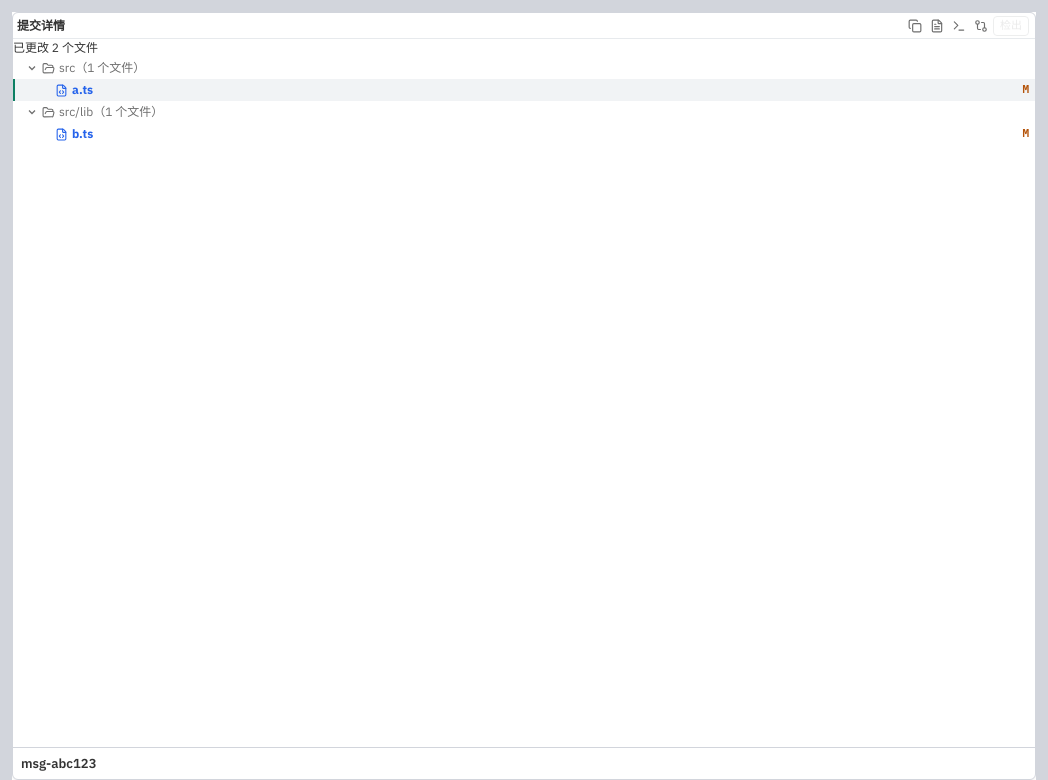
Test: GitCommitDetail › 目录行可折叠：点击后文件行隐藏，再点展开
The image size is (1048, 780).
Expected: the text "a.ts" is shown, [72,82,93,97]
Expected: the text "b.ts" is shown, [72,126,93,141]
Note: 点击目录行折叠：src 目录下的 a.ts 消失，src/lib 目录下的 b.ts 仍在
Click the list item "src（1 个文件）" at (102, 68), box [13,57,1035,79]
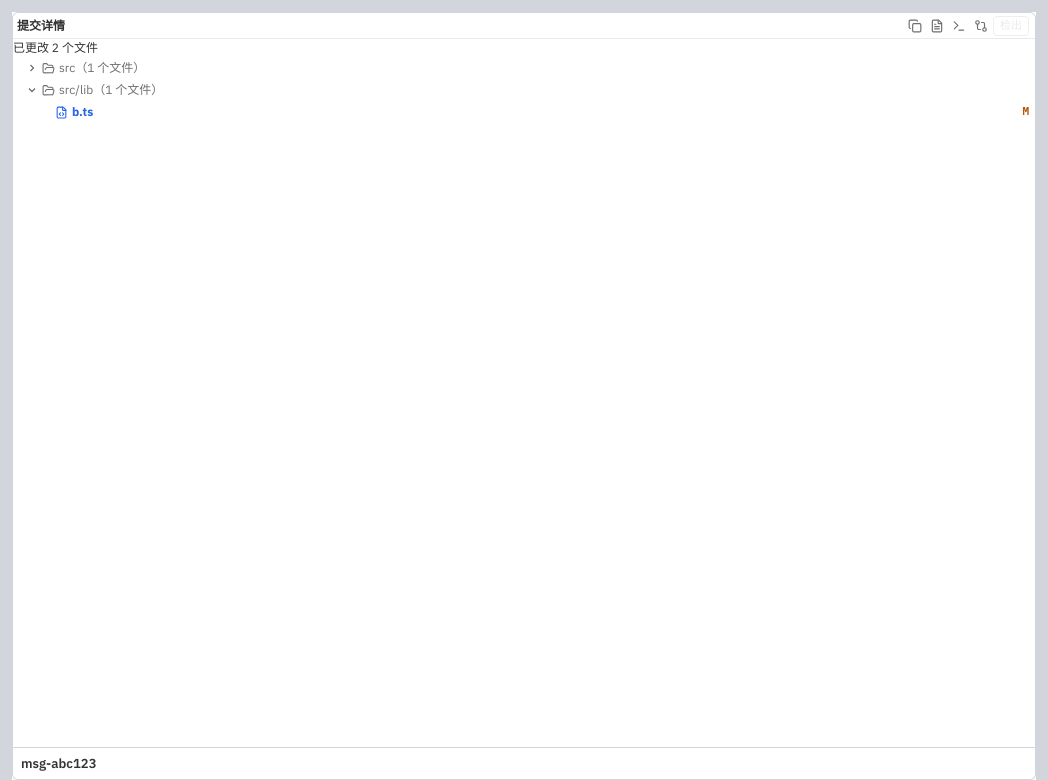
Expected: the text "b.ts" is shown, [72,104,93,119]
Expected: the list item "a.ts" is gone
Click the list item "src（1 个文件）" at (102, 68), box [13,57,1035,79]
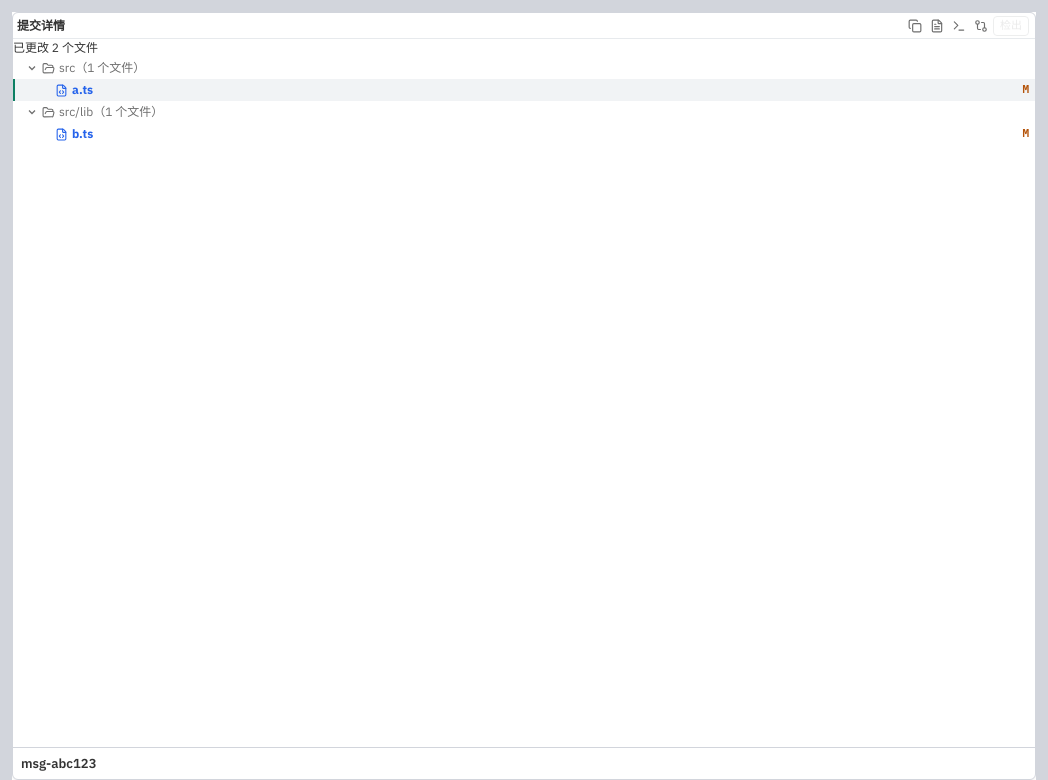
Expected: the text "a.ts" is shown, [72,82,93,97]
